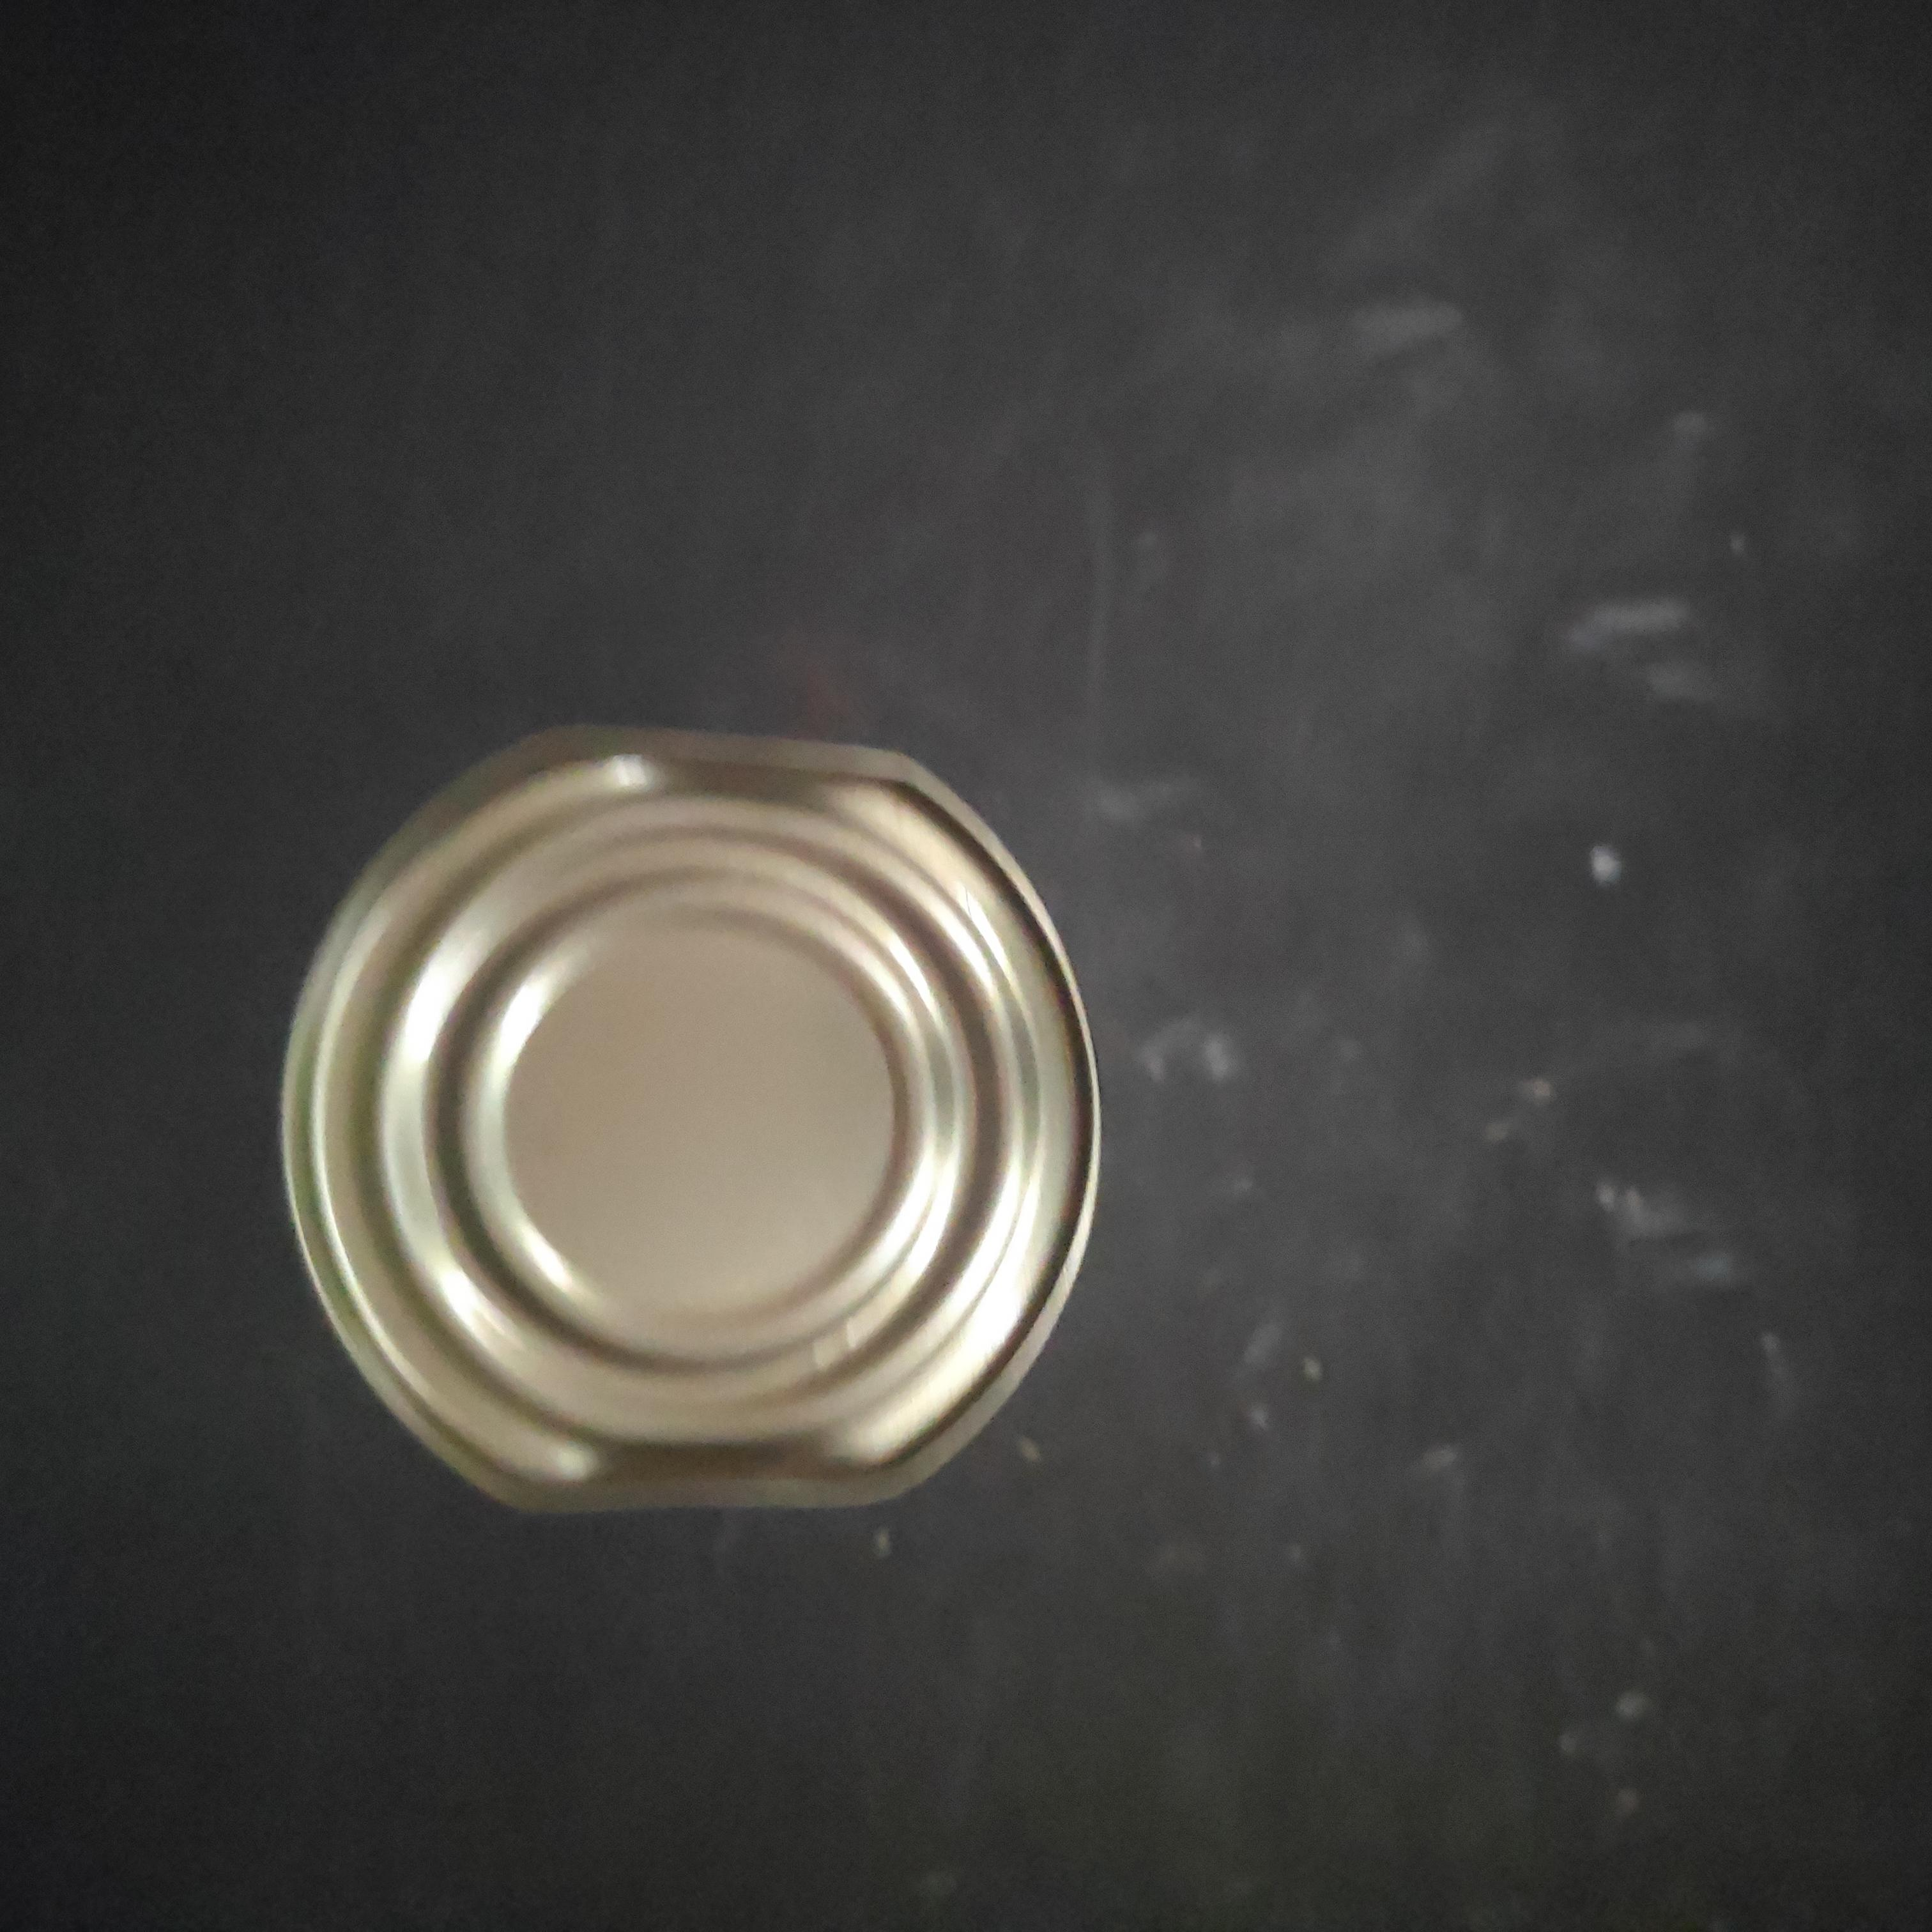Minor Defect: (812, 387, 1656, 1240)
